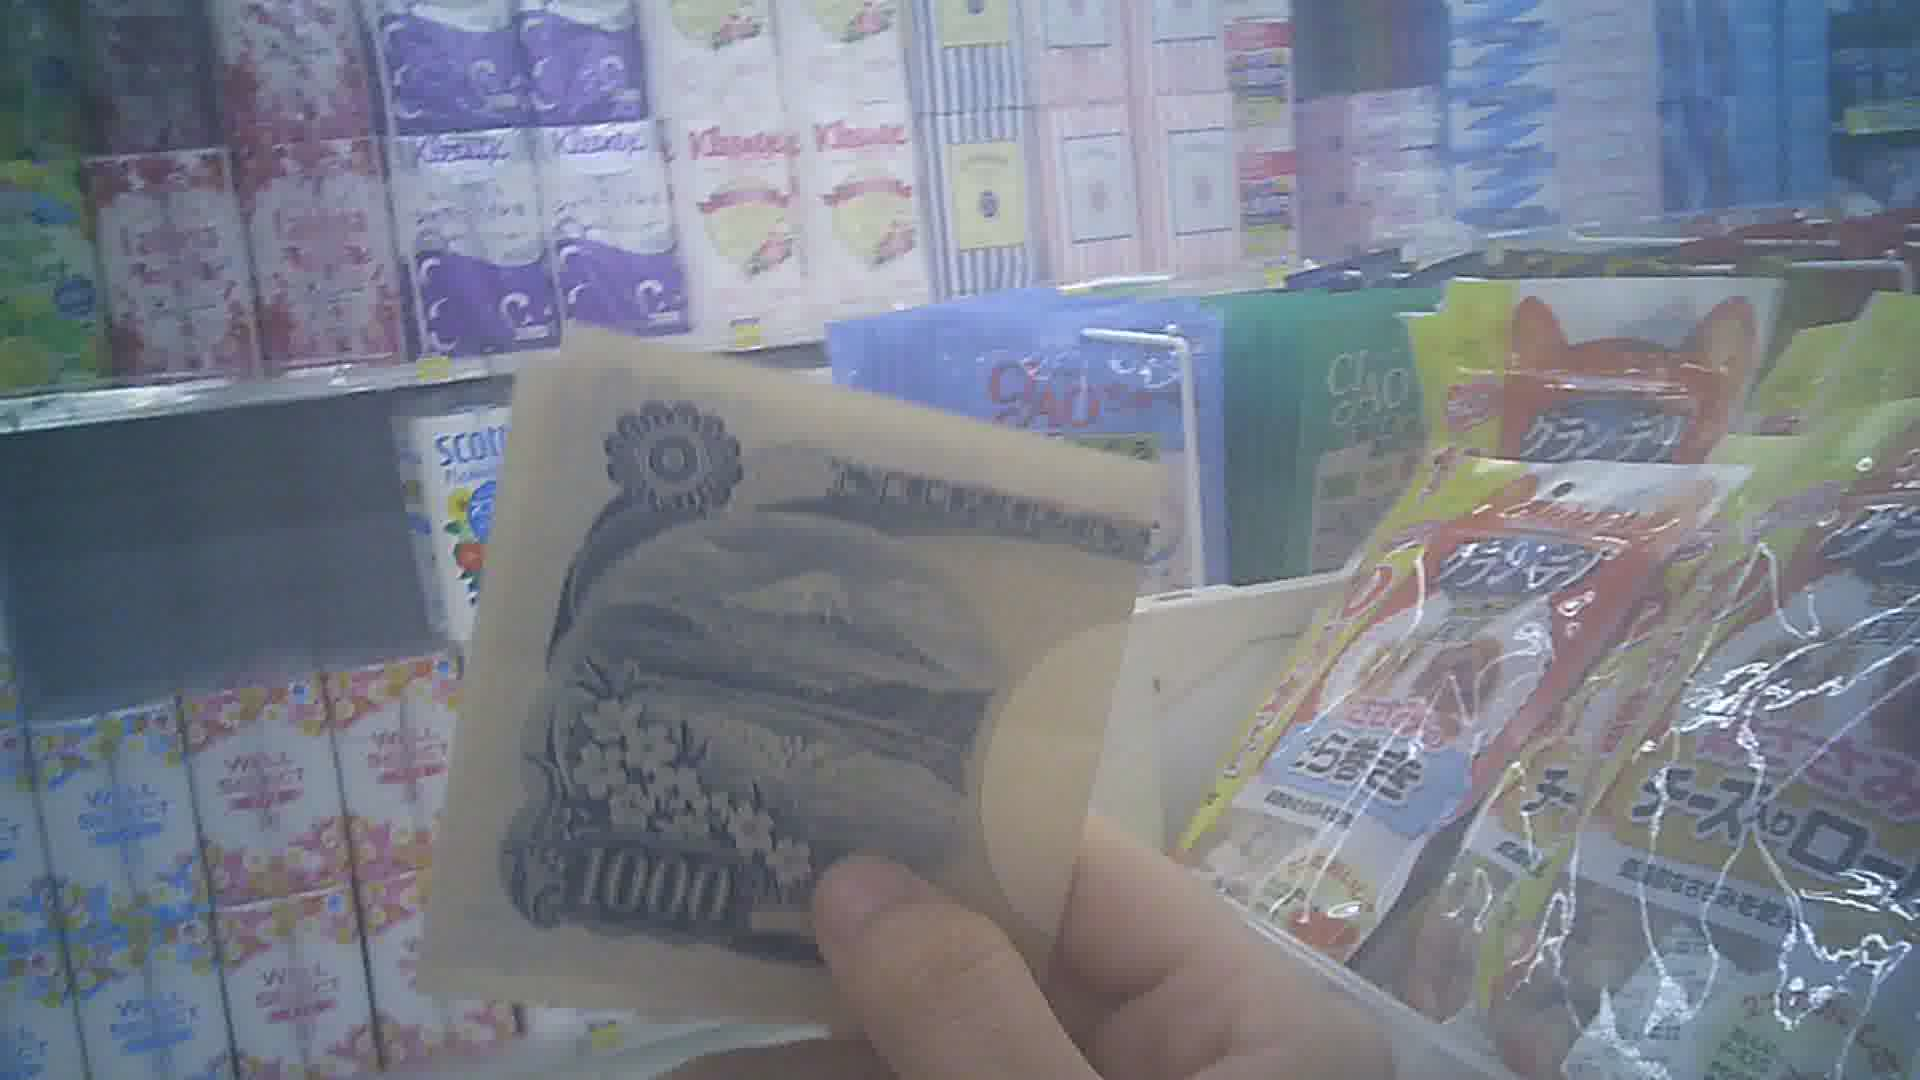1,000 Yen: (448, 307, 1164, 993)
